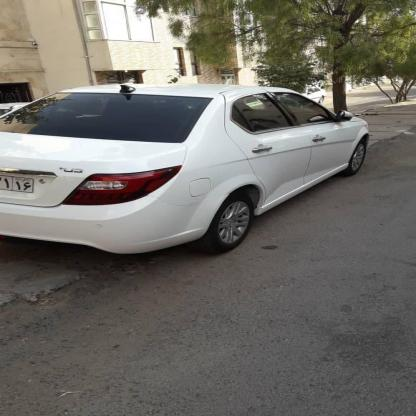Car: (0, 78, 387, 254)
